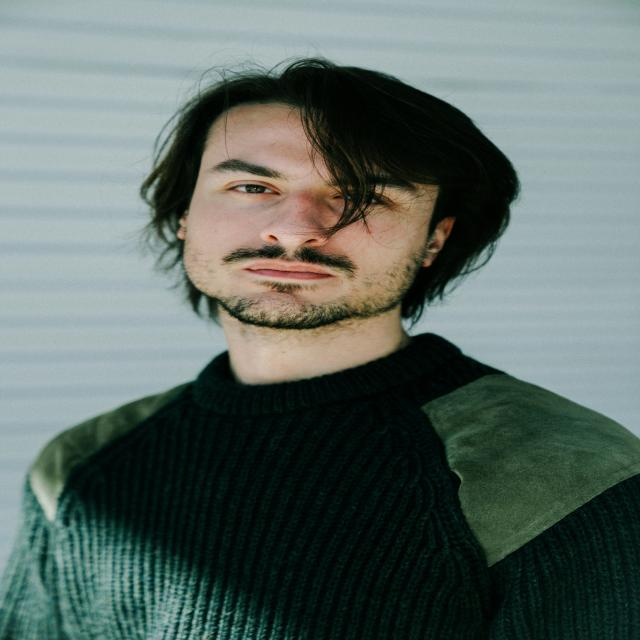human: (9, 59, 640, 639)
